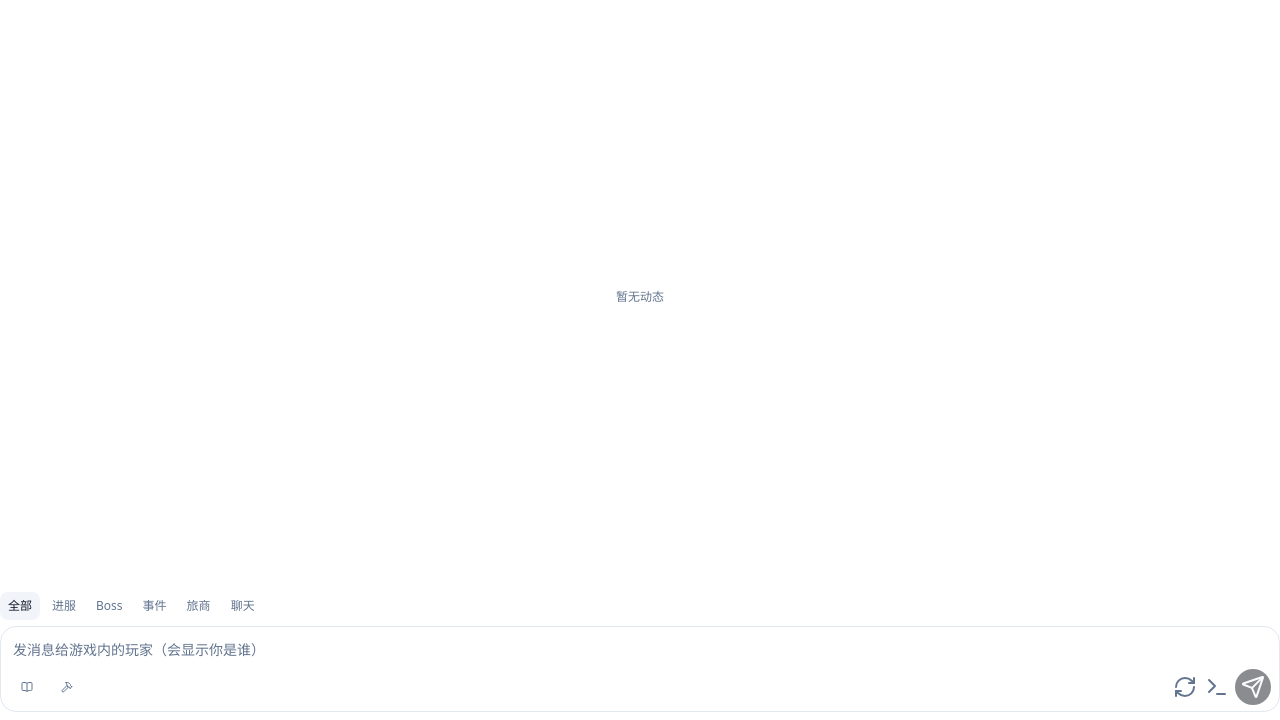
Test case: ChatPage › 左下角「物品」点开搜物品弹框，选中即把 [i:ID] 追加到输入框
The width and height of the screenshot is (1280, 720).
Click the button named "物品" at (27,687), box [9,669,45,705]
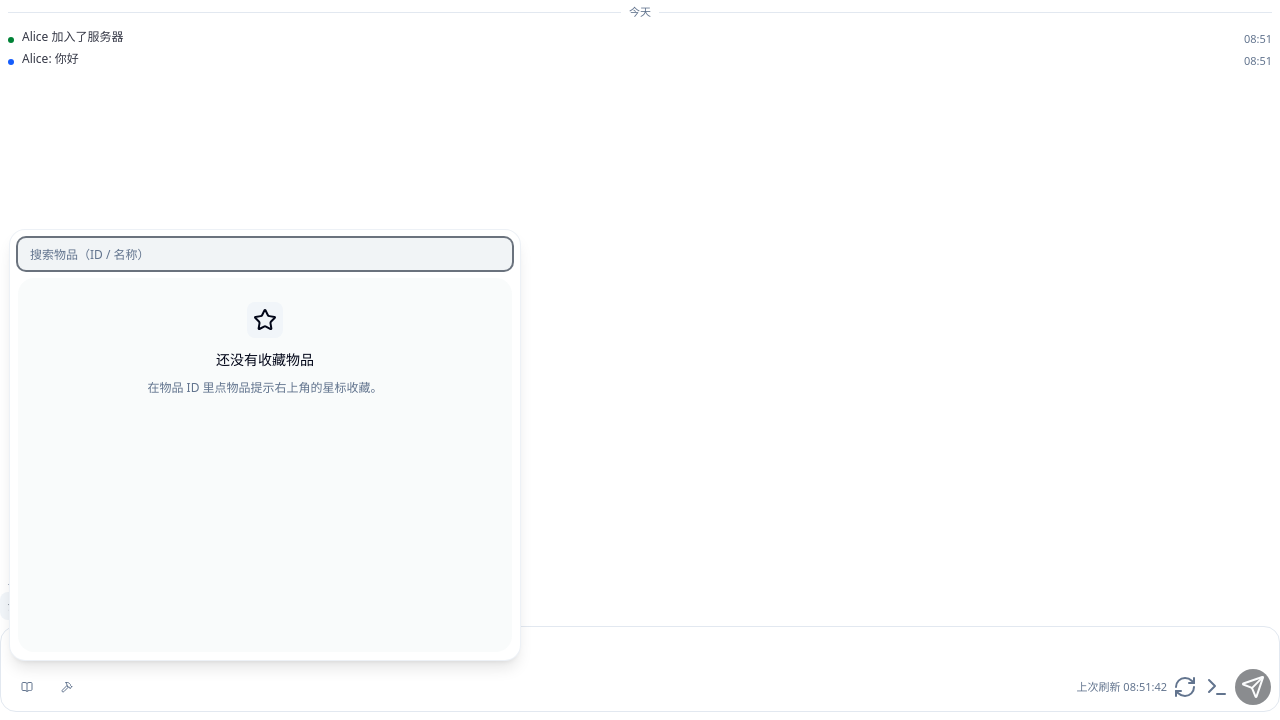
Type "生命水晶" into the field with placeholder "搜索物品（ID / 名称）" at (265,254), box [18,238,512,270]
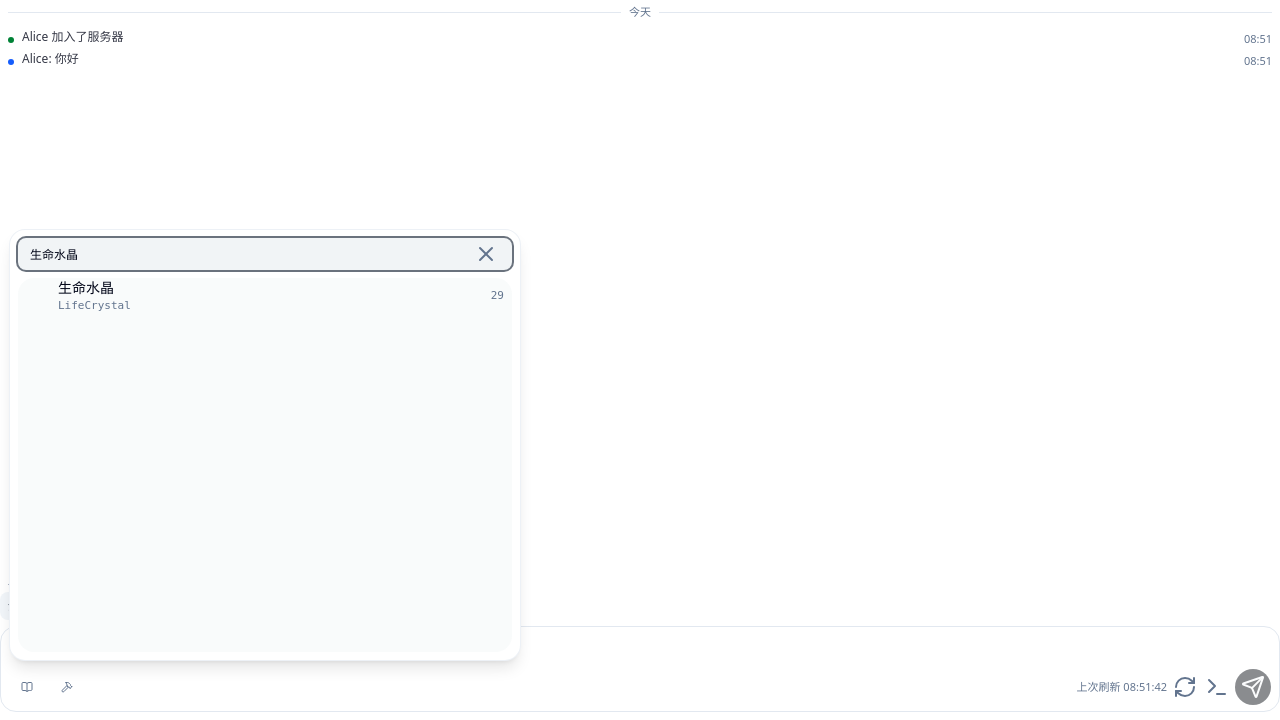
Click the text "生命水晶" at (86,287), box [58,278,114,297]
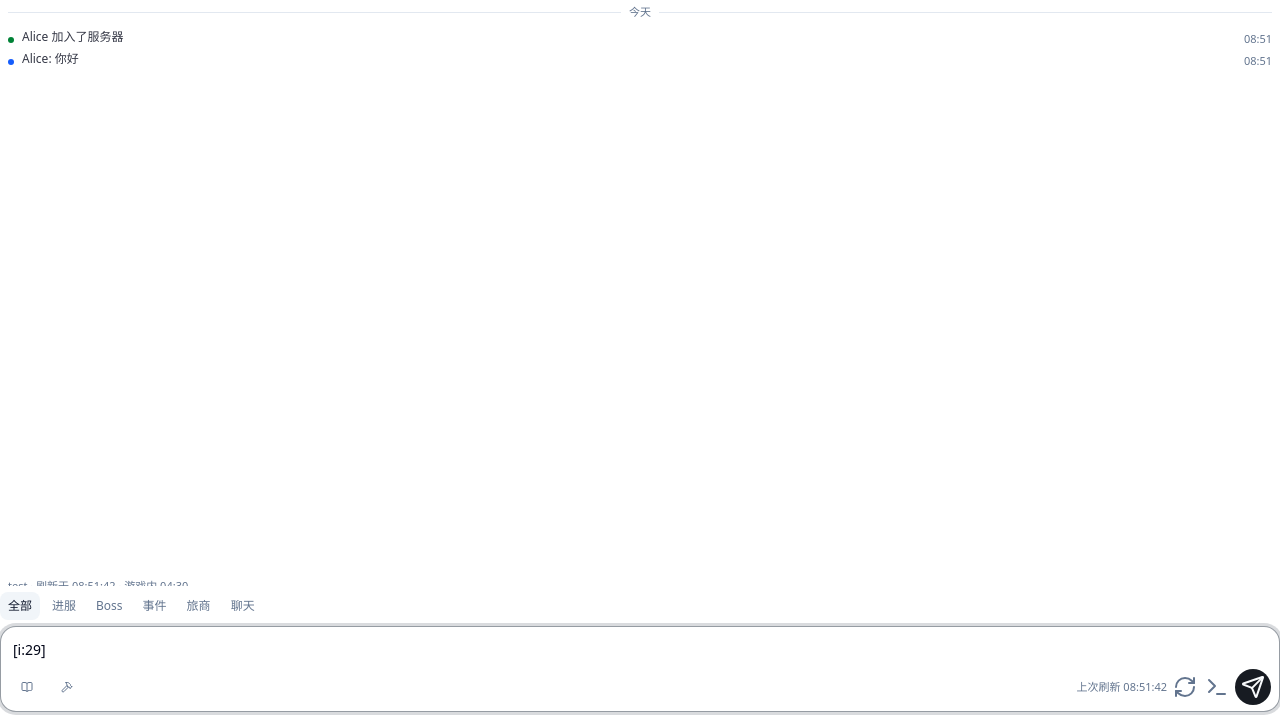
Result: the field with placeholder "发消息给游戏内的玩家（会显示你是谁）" holds "[i:29]" at [9,633,1271,665]
Result: the dialog is gone
